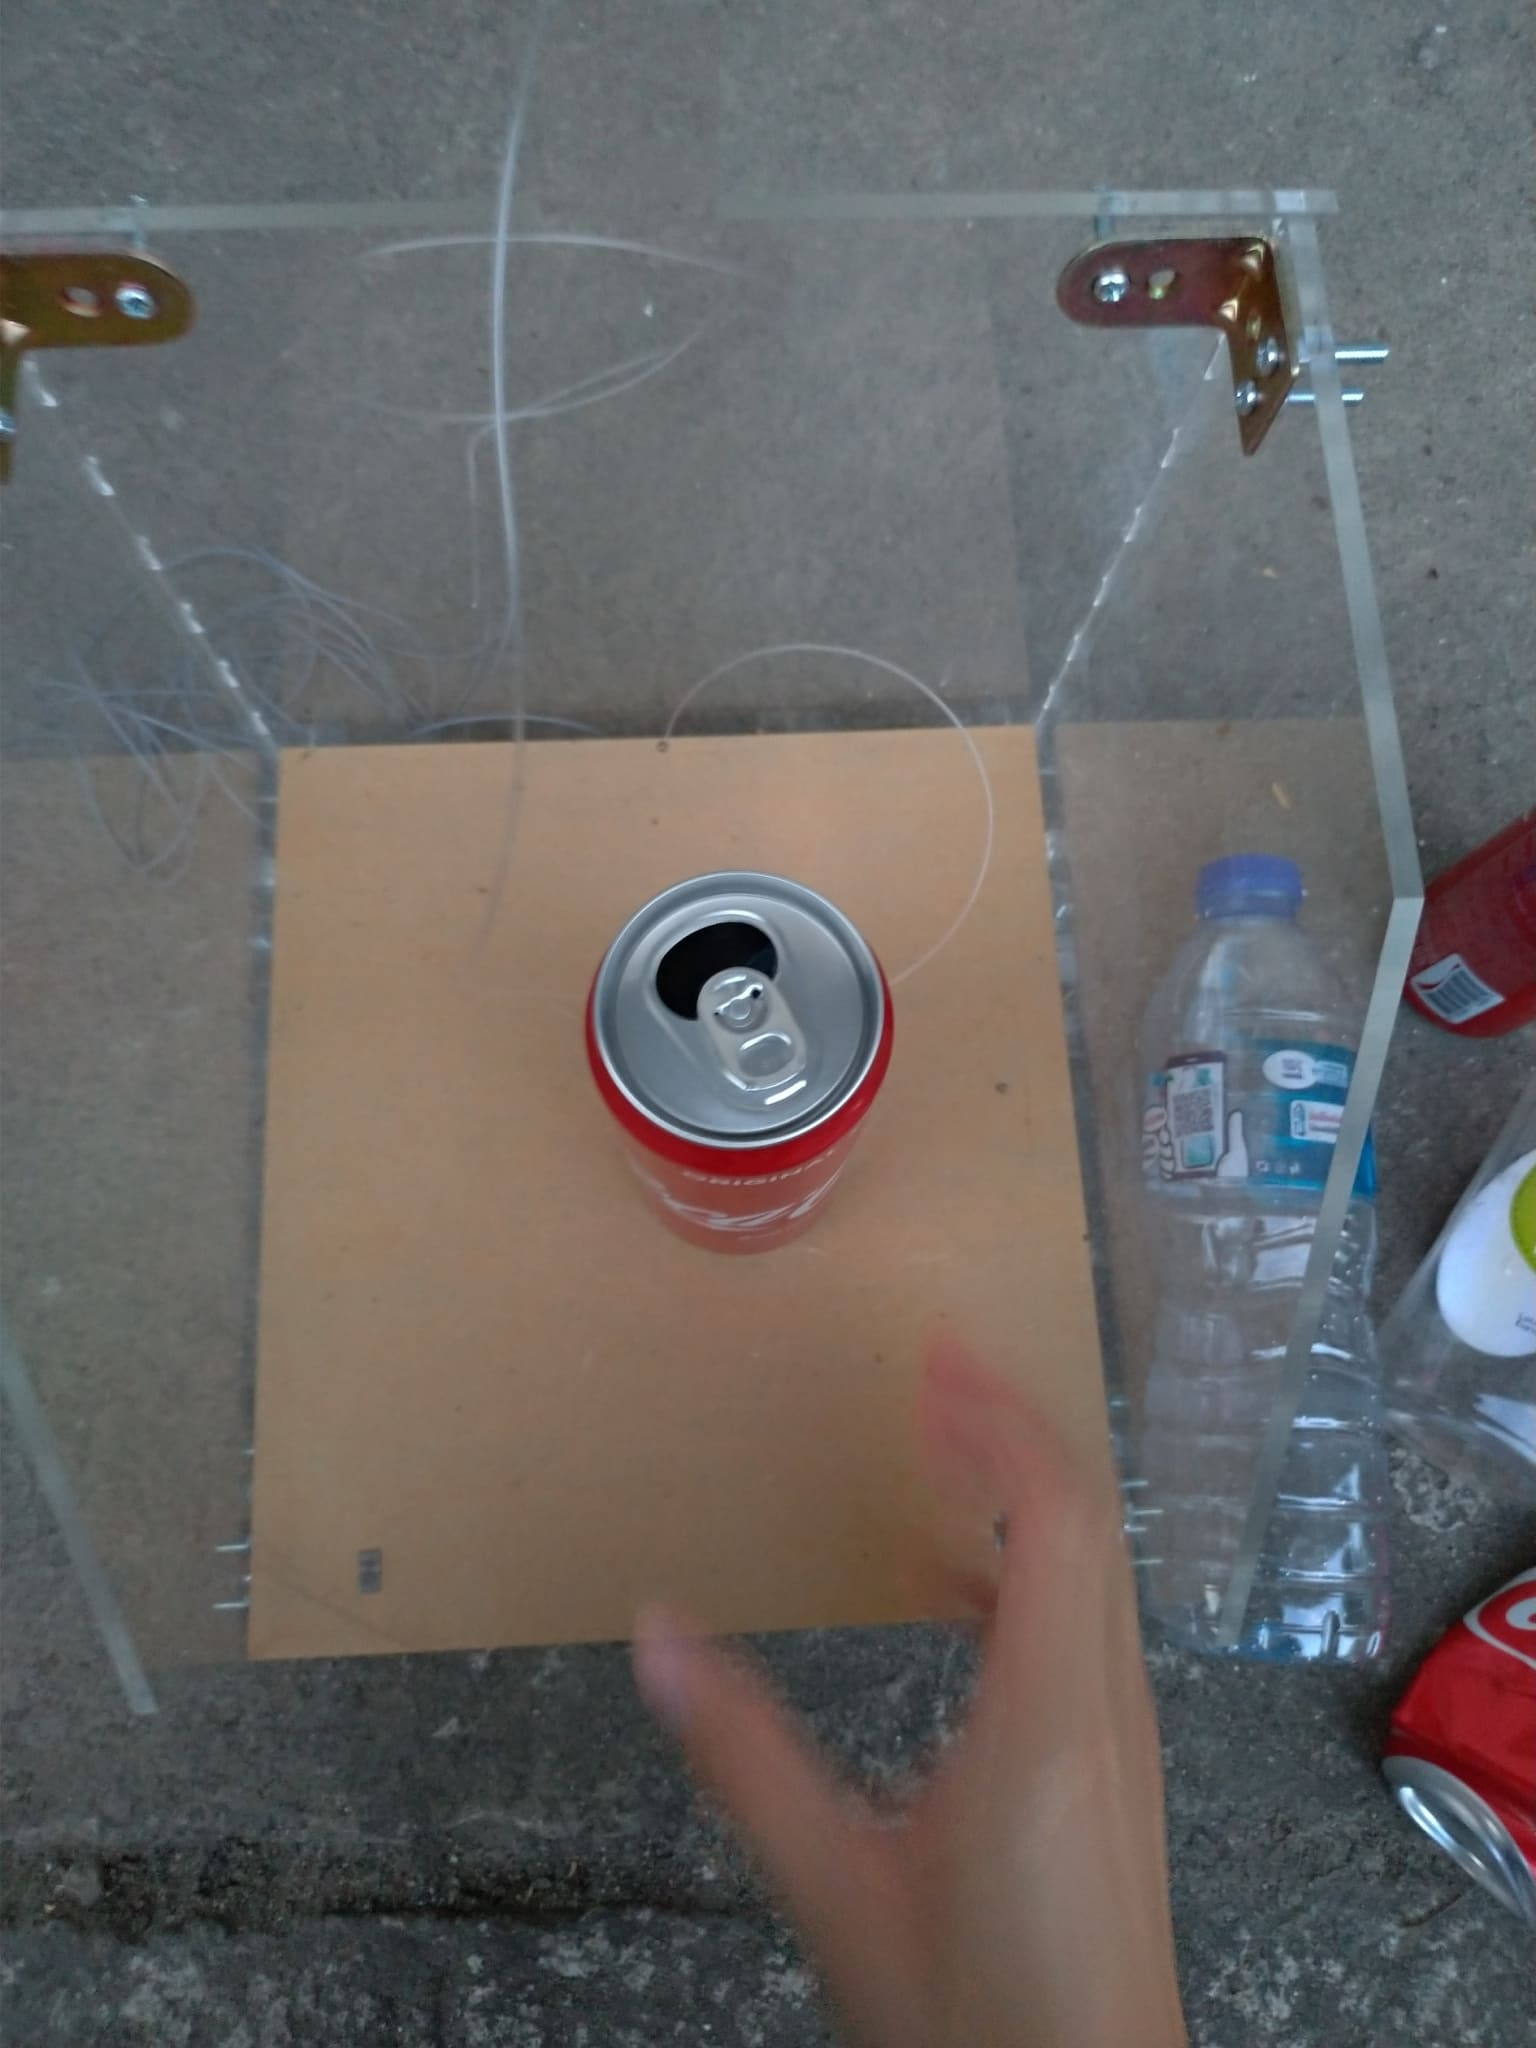AlCan: (595, 871, 900, 1258), (1391, 1513, 1536, 1950), (1400, 803, 1536, 1027)
PlasticBottle: (1128, 851, 1383, 1655)
